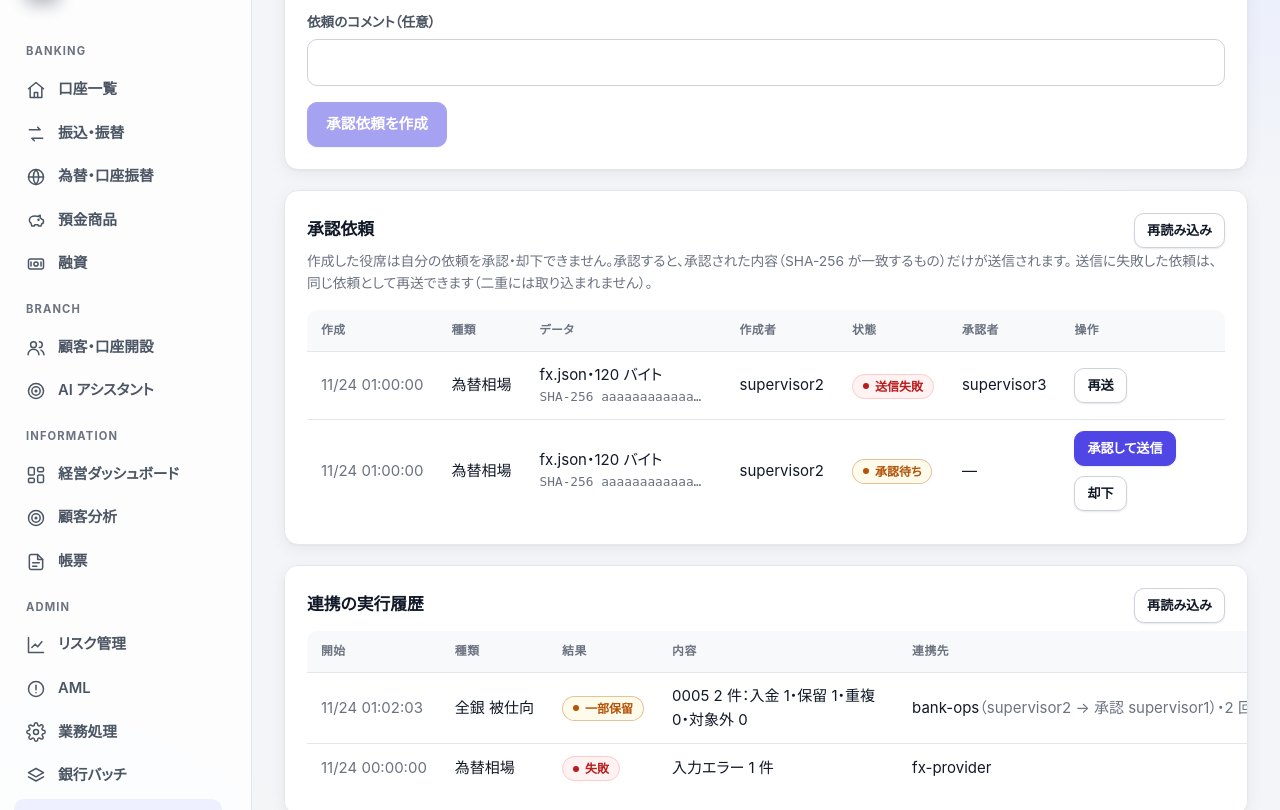
IntegrationPage › 送信失敗は再送でき、却下は理由を付けて行う
The width and height of the screenshot is (1280, 810).
(page scrolled)
Click the button "再送".
click(1100, 385)  # box [1074, 368, 1127, 403]
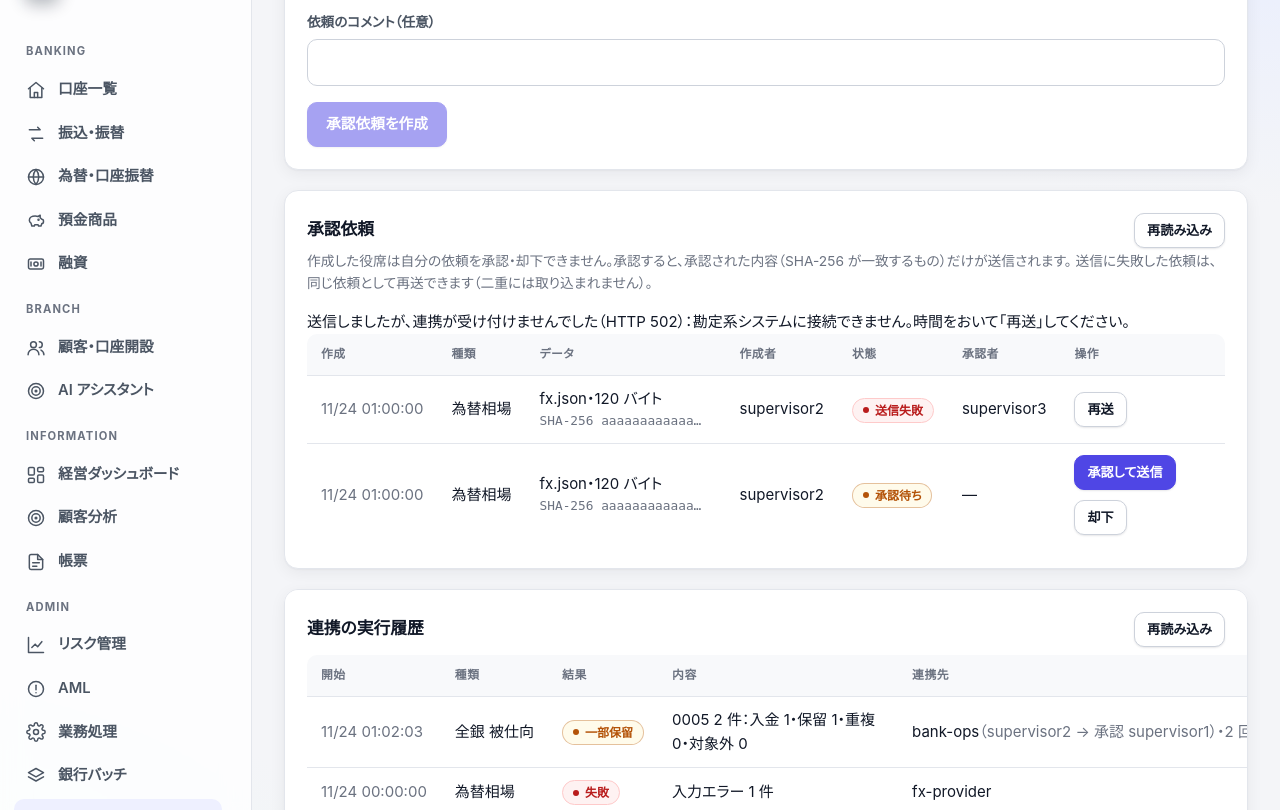
Now the text "送信しましたが、連携が受け付けませんでした（HTTP 502）：勘定系システムに接続できません。時間をおいて「再送」してください。" is shown, box [307, 310, 1225, 334]
Click the button "却下".
click(1100, 517)  # box [1074, 500, 1127, 535]
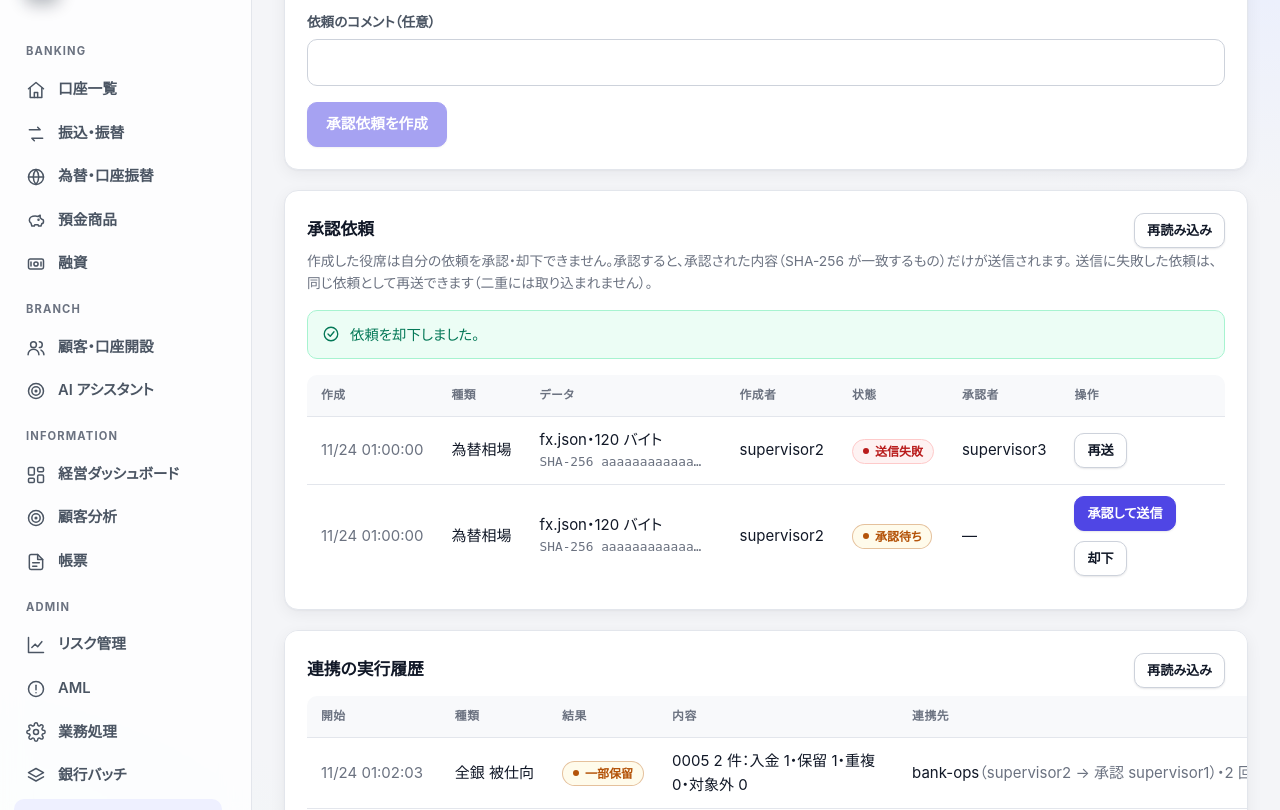
Now the text "依頼を却下しました。" is shown, box [350, 323, 479, 346]
